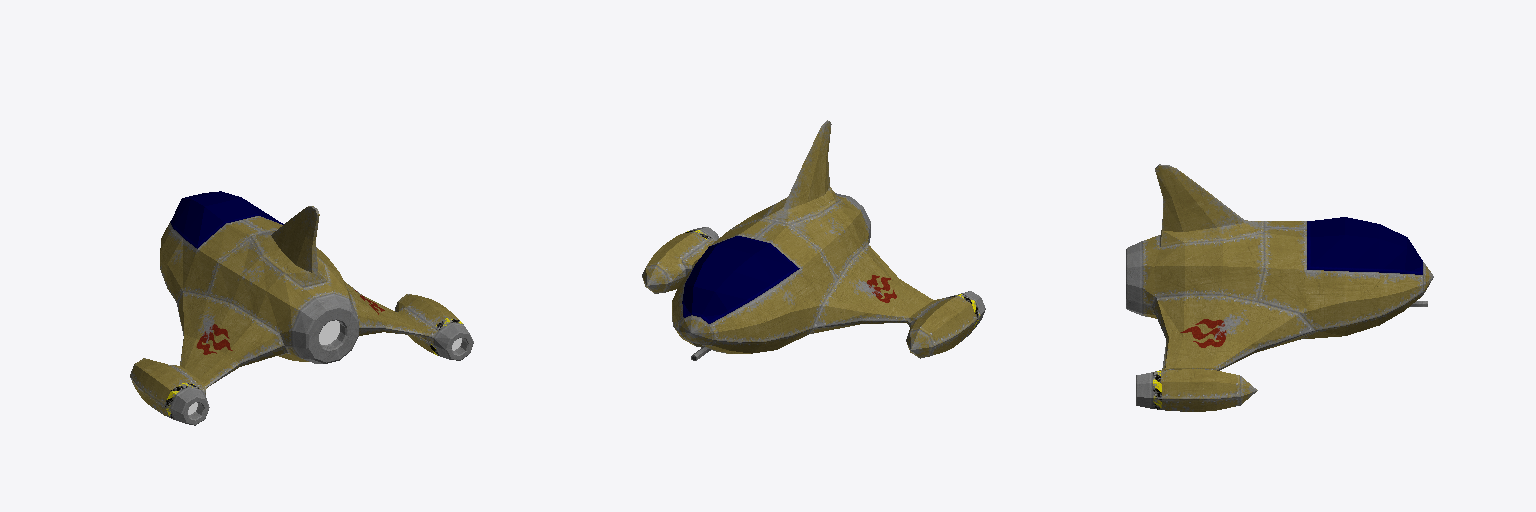
3 renders of one model, left to right at view 1: azimuth 30°, elevation 25°; view 2: azimuth 150°, elevation 25°; view 3: azimuth 270°, elevation 25°, orthographic.
Parts seen in each view (by area): view 1: shipA; view 2: shipA; view 3: shipA.
Part boxes in pixels (bbox=[...]): shipA: bbox=[130, 191, 473, 425]; shipA: bbox=[642, 120, 985, 360]; shipA: bbox=[1126, 164, 1433, 411].
Size of the model in its own units: 69.93 by 40 by 61.48.
1 materials, 1 textured.